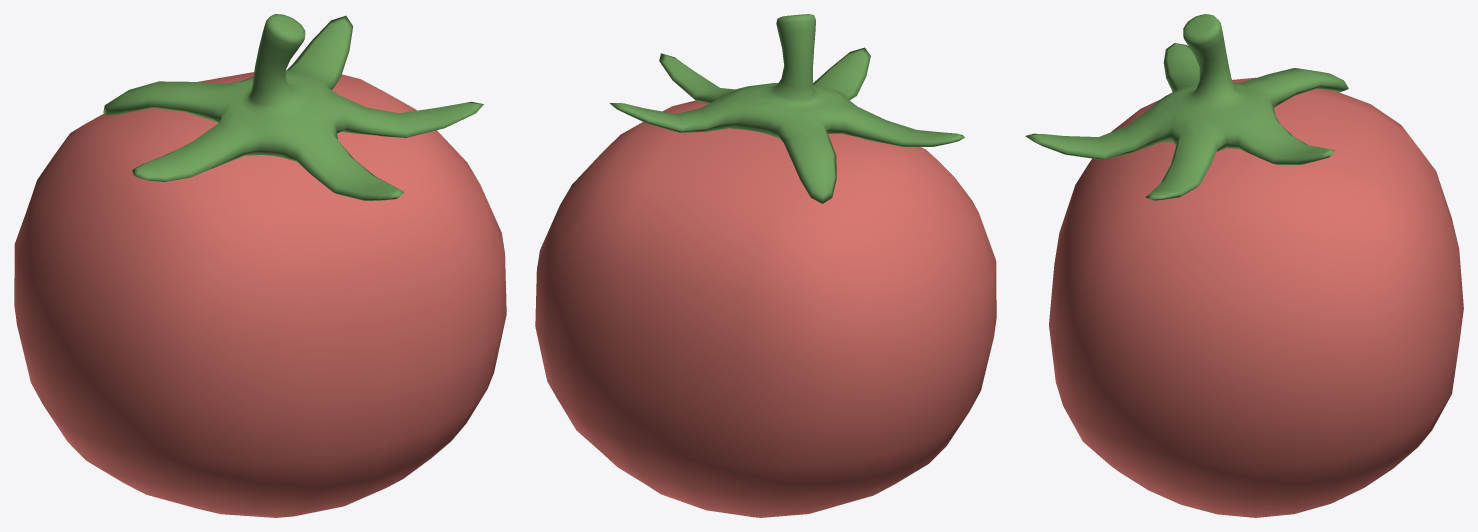
The model's file is tomato.gltf.
The picture shows the model from 3 angles, left to right: view 1: azimuth 30°, elevation 25°; view 2: azimuth 150°, elevation 25°; view 3: azimuth 270°, elevation 25°; orthographic projection. The views are drawn at different scales.
Visible parts, largest first — view 1: tomato, Cylinder; view 2: tomato, Cylinder; view 3: tomato, Cylinder.
Part boxes in pixels (x1=…): tomato: x1=14, y1=72, x2=506, y2=517; Cylinder: x1=103, y1=14, x2=483, y2=200; tomato: x1=535, y1=100, x2=996, y2=517; Cylinder: x1=610, y1=14, x2=964, y2=203; tomato: x1=1049, y1=77, x2=1463, y2=517; Cylinder: x1=1025, y1=14, x2=1348, y2=200.
Bounding box in the file's own units: 0.7216 × 0.8112 × 0.6886.
